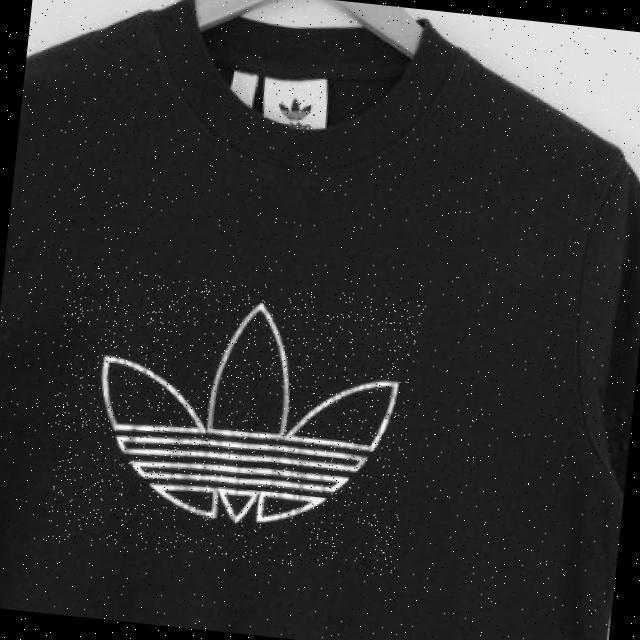Adidas: (40, 264, 423, 577), (258, 80, 329, 135)
